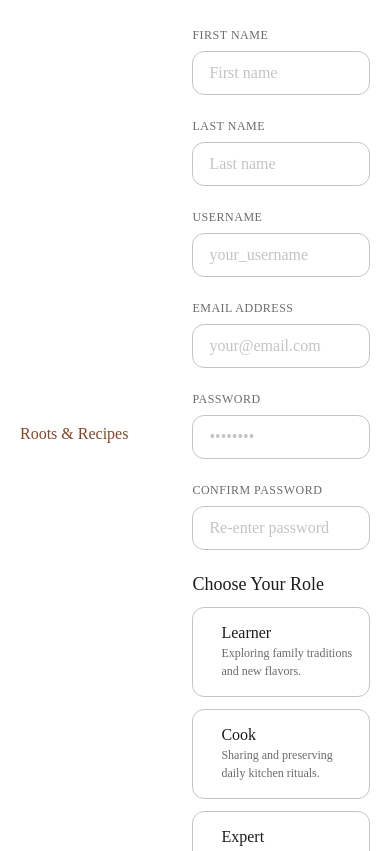
Scenario: RegisterScreen › validation › shows error when passwords do not match
The width and height of the screenshot is (390, 851).
In the field with placeholder "your@email.com": (281, 346) [192, 324, 370, 368], type "user@test.com"
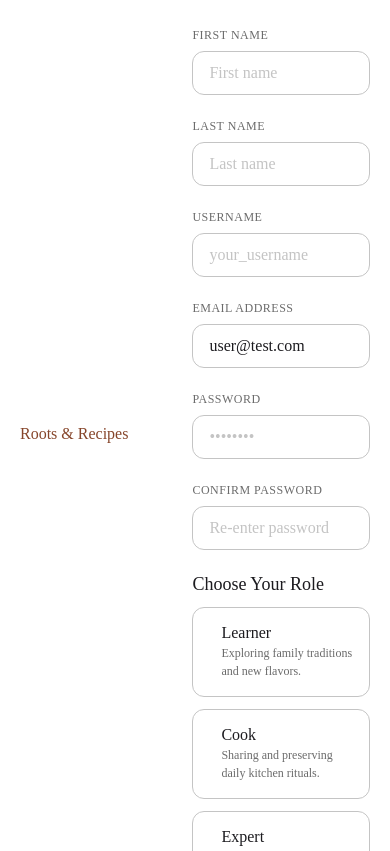
In the field with placeholder "••••••••": (281, 437) [192, 415, 370, 459], type "password123"
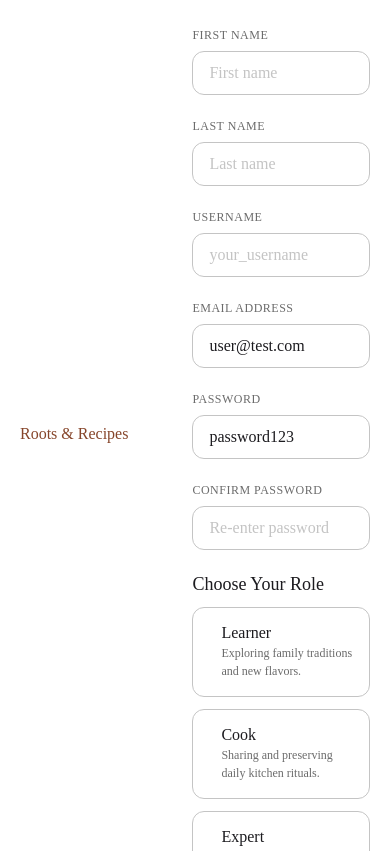
In the field with placeholder "Re-enter password": (281, 528) [192, 506, 370, 550], type "different456"
(page scrolled)
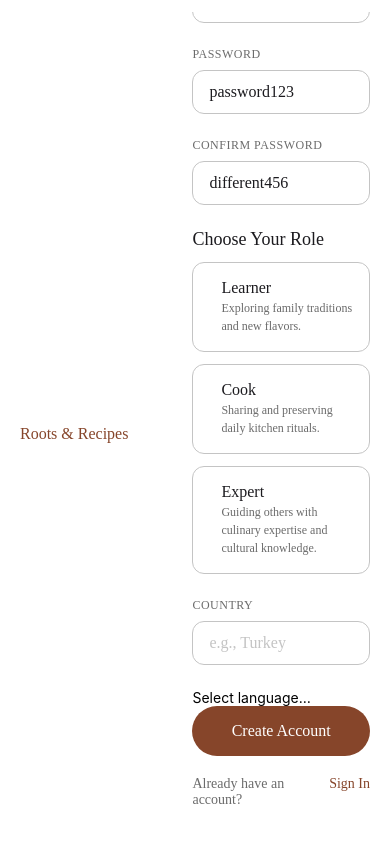
Click the text "Create Account": (281, 731) [232, 722, 331, 740]
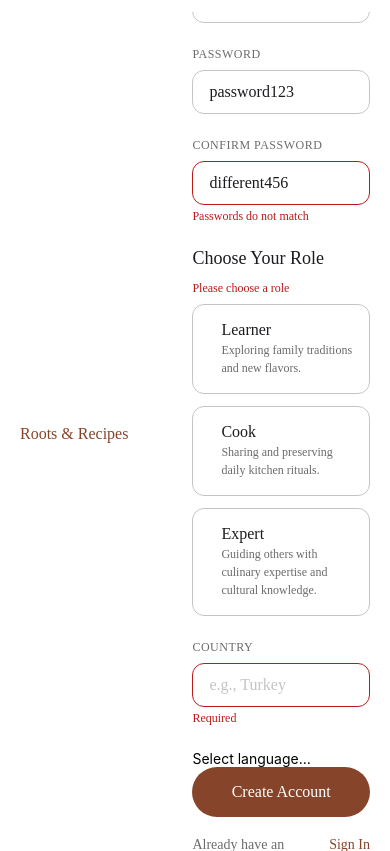
Expected: the text "Passwords do not match" is shown, [192, 209, 309, 223]
